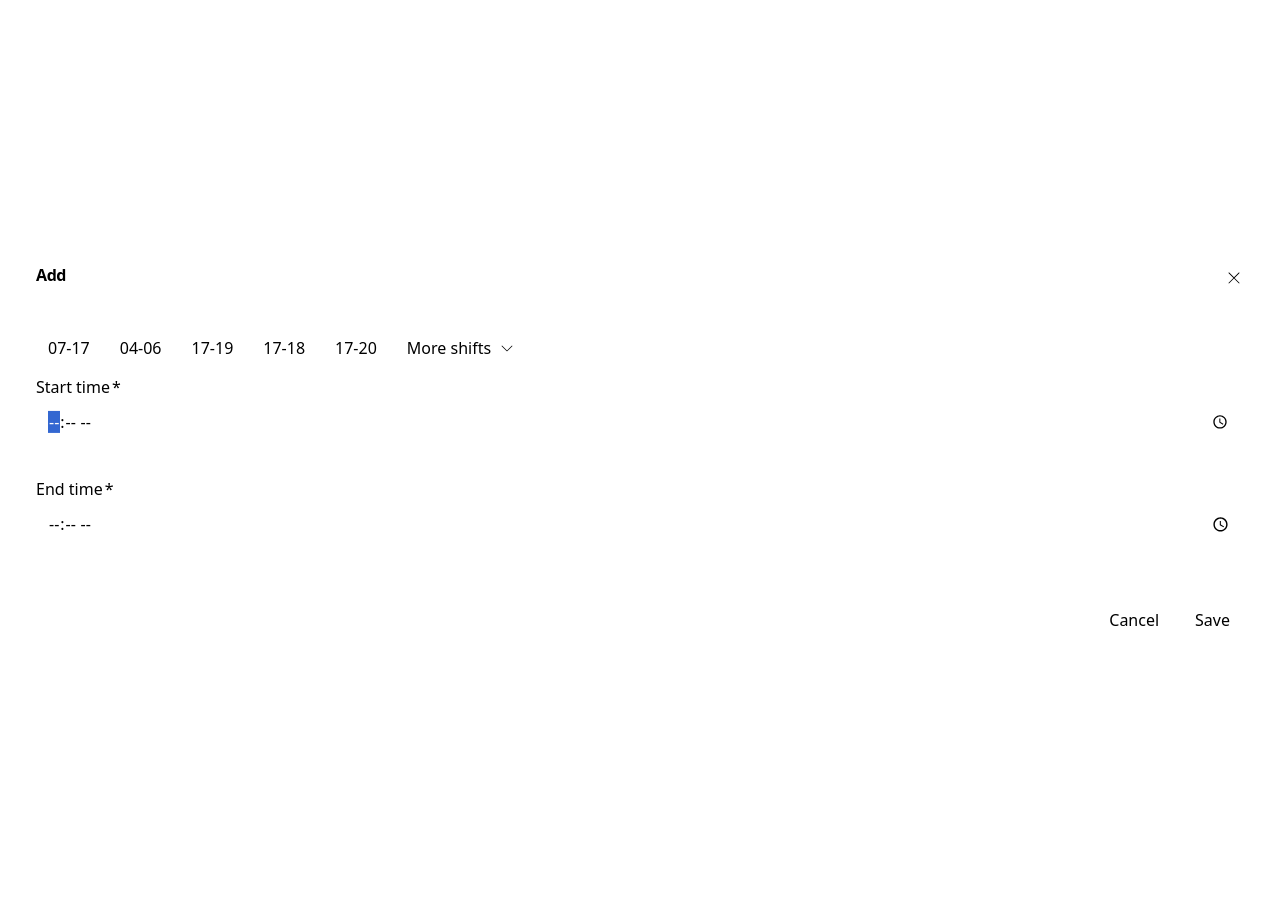
it: ShiftTimeRange › a quick-shift chip marks a FormDialog dirty
Click the button "07-17" at (69, 348), box [36,332,102,364]
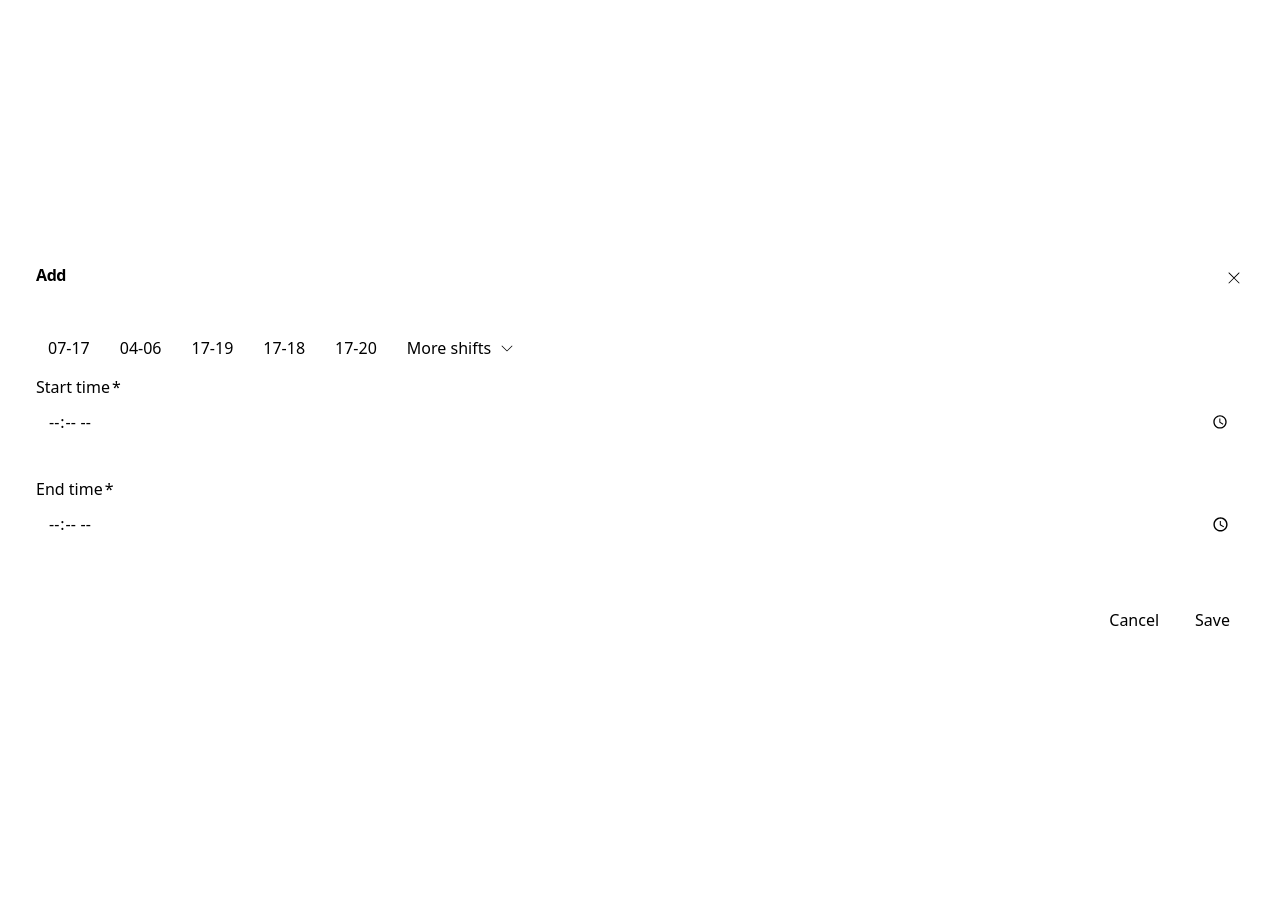
Press Escape
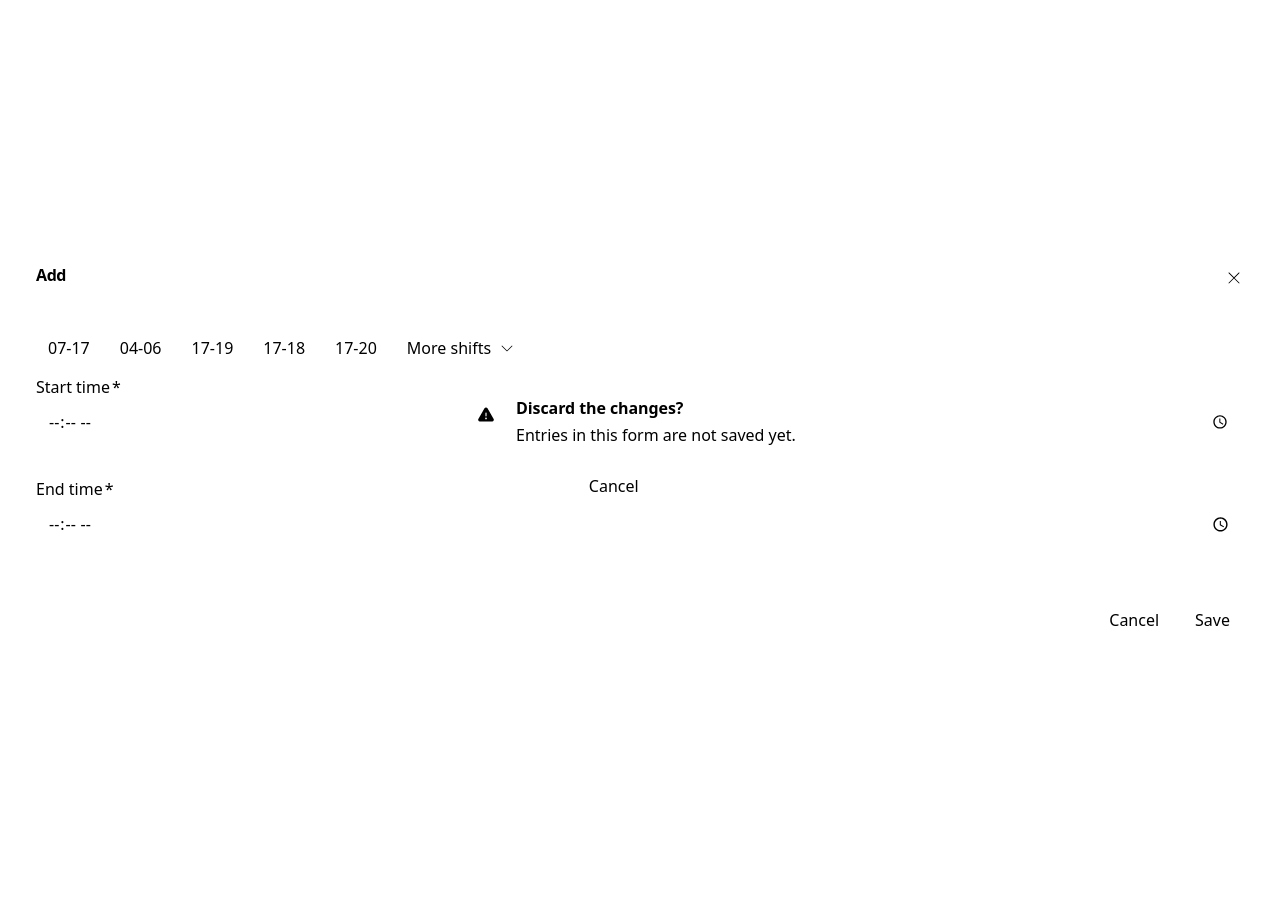
Expected: the dialog that starts with "Discard the changes?" is shown, [448,377,832,523]
